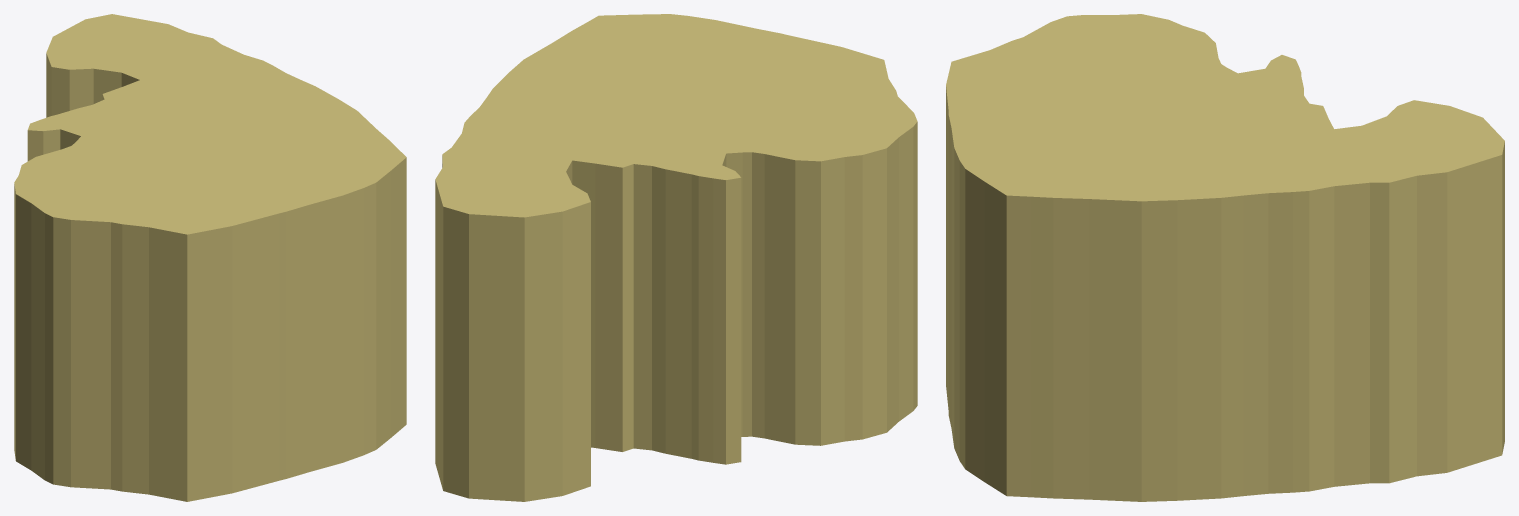
File: Big_mountain_000.dae
3 renders of one model, left to right at view 1: azimuth 30°, elevation 25°; view 2: azimuth 150°, elevation 25°; view 3: azimuth 270°, elevation 25°, orthographic. The views are drawn at different scales.
Parts seen in each view (by area): view 1: Object; view 2: Object; view 3: Object.
Part boxes in pixels (<box>): Object: <box>14,14,406,501</box>; Object: <box>435,14,917,501</box>; Object: <box>946,14,1504,501</box>.
Size of the model in its own units: 20.59 by 25.96 by 15.4.
